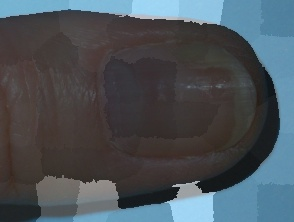Nail_psoriasis: (98, 0, 293, 139)
